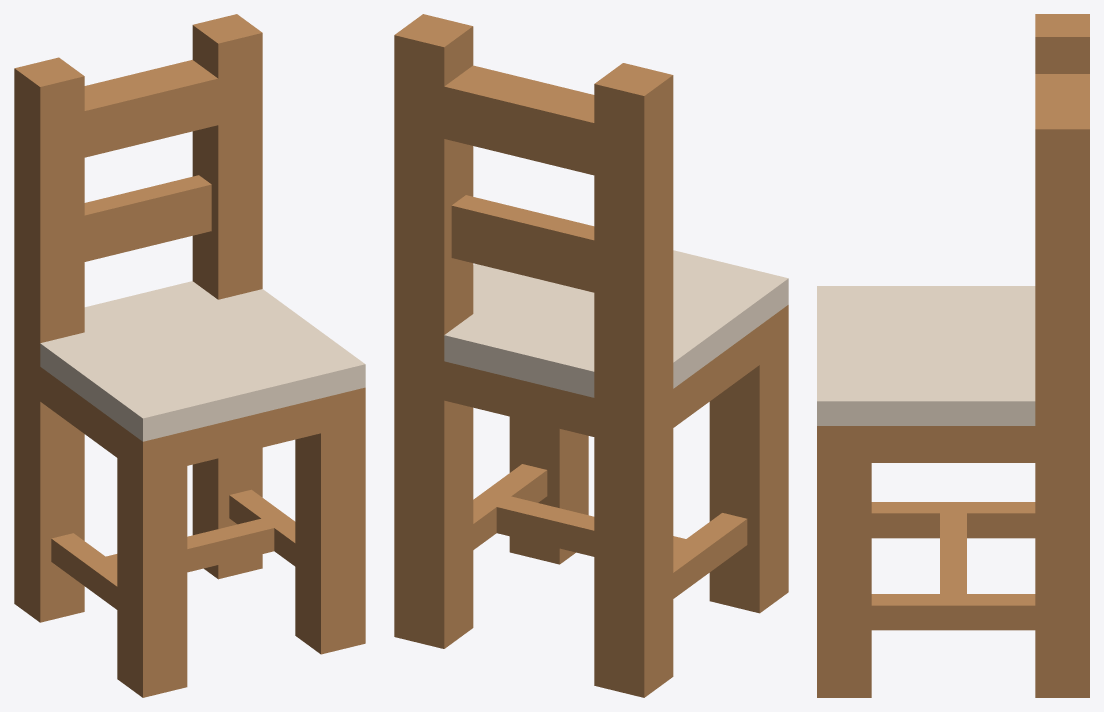
File: kitChairCushion.glb
3 views of the same model, side by side, from view 1: azimuth 30°, elevation 25°; view 2: azimuth 150°, elevation 25°; view 3: azimuth 270°, elevation 25° (orthographic). The views are drawn at different scales.
Parts seen in each view (by area): view 1: kitChairCushion_wood, kitChairCushion_fabric; view 2: kitChairCushion_wood, kitChairCushion_fabric; view 3: kitChairCushion_wood, kitChairCushion_fabric.
Boxes of the visible parts, bbox=[...] form: kitChairCushion_wood: bbox=[14, 14, 365, 697]; kitChairCushion_fabric: bbox=[40, 281, 365, 441]; kitChairCushion_wood: bbox=[394, 14, 788, 697]; kitChairCushion_fabric: bbox=[444, 250, 788, 397]; kitChairCushion_wood: bbox=[817, 14, 1089, 697]; kitChairCushion_fabric: bbox=[817, 286, 1035, 425].
Size of the model in its own units: 0.4 by 0.92 by 0.4.
